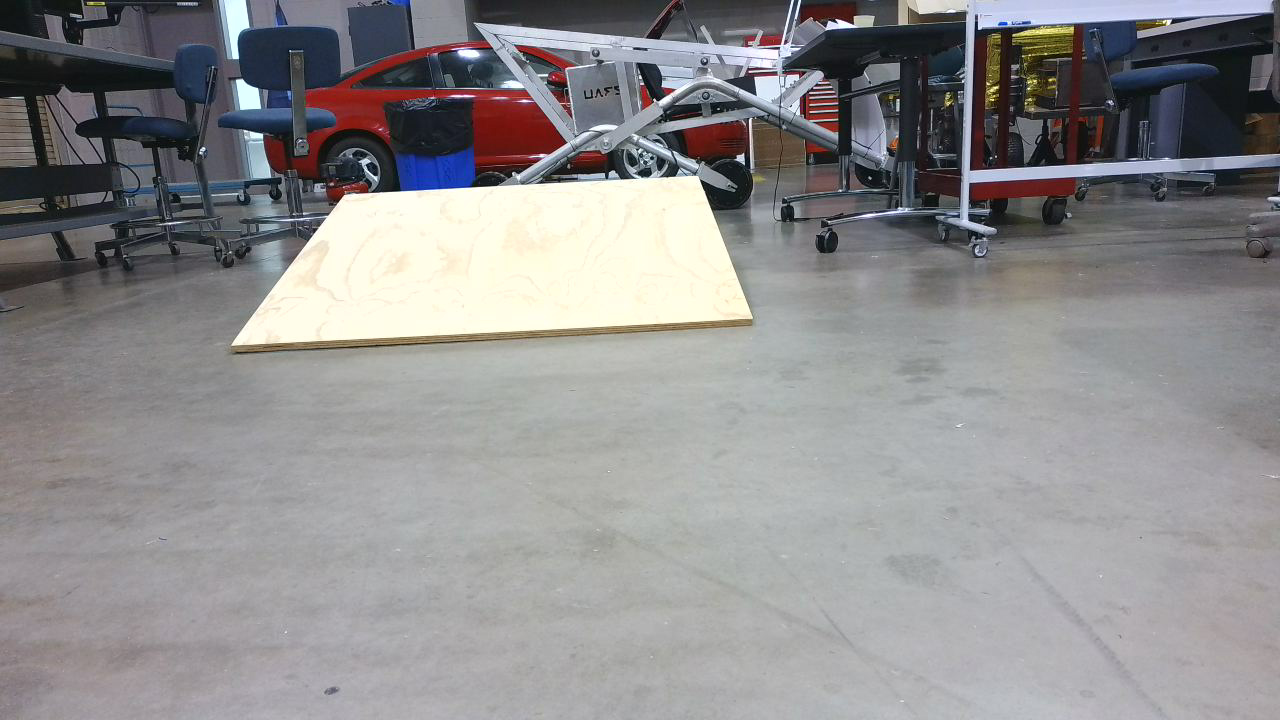concrete_block: (230, 178, 761, 357)
